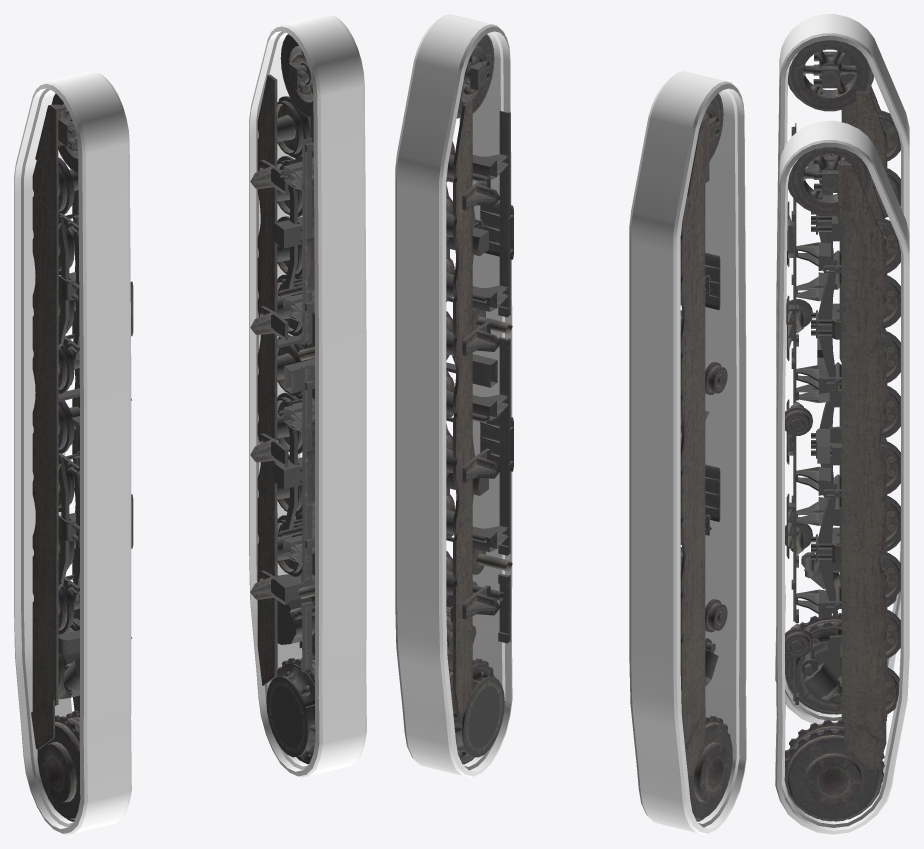
File: Chassis.glb
3 views of the same model, side by side, from view 1: azimuth 30°, elevation 25°; view 2: azimuth 150°, elevation 25°; view 3: azimuth 270°, elevation 25° (orthographic). The views are drawn at different scales.
Parts seen in each view (by area): view 1: set_2_group_0, set_3_group_0, set_0_group_0, set_1_group_0; view 2: set_2_group_0, set_3_group_0, set_0_group_0, set_1_group_0; view 3: set_0_group_0, set_1_group_0, set_3_group_0, set_2_group_0.
Boxes of the visible parts, x1=… form: set_2_group_0: x1=14, y1=71, x2=131, y2=834; set_3_group_0: x1=249, y1=14, x2=366, y2=777; set_0_group_0: x1=250, y1=34, x2=315, y2=764; set_1_group_0: x1=31, y1=93, x2=133, y2=821; set_2_group_0: x1=629, y1=71, x2=746, y2=834; set_3_group_0: x1=395, y1=14, x2=512, y2=777; set_0_group_0: x1=446, y1=34, x2=513, y2=764; set_1_group_0: x1=680, y1=93, x2=732, y2=821; set_0_group_0: x1=784, y1=147, x2=900, y2=821; set_1_group_0: x1=785, y1=40, x2=900, y2=714; set_3_group_0: x1=775, y1=120, x2=909, y2=834; set_2_group_0: x1=775, y1=14, x2=909, y2=724.
Size of the model in its own units: 2.06 by 5.12 by 0.8962.
Materials: 4 (2 with a texture image).
